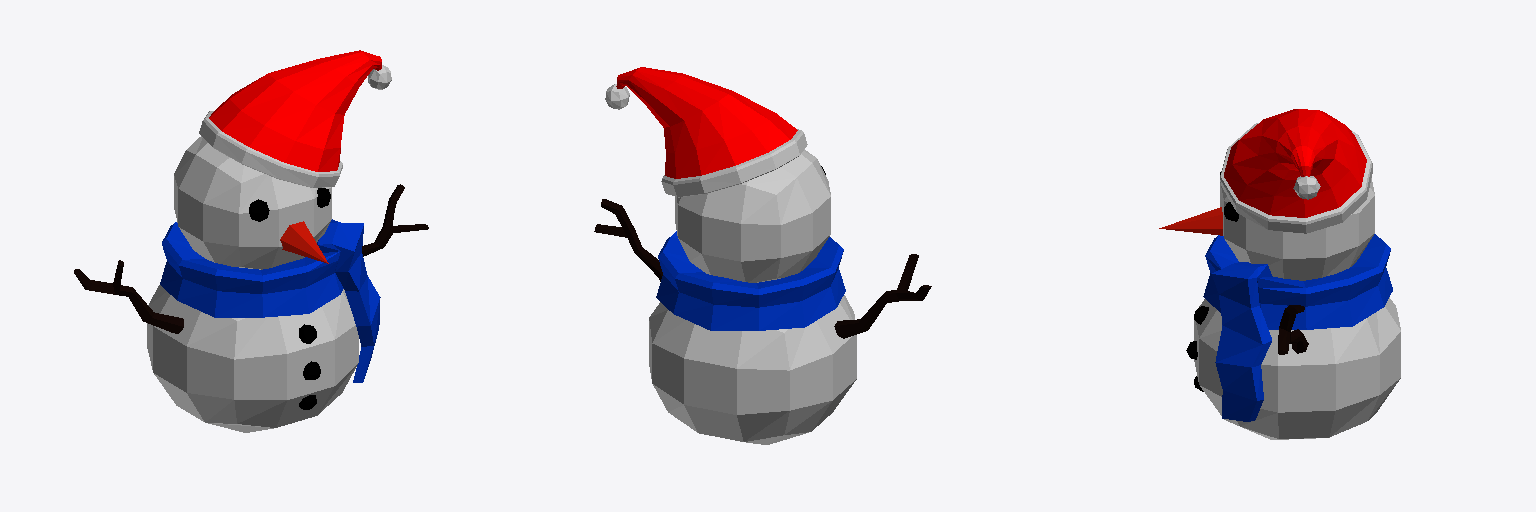
Rendered from snowman_2022.obj.
3 views of the same model, side by side, from view 1: azimuth 30°, elevation 25°; view 2: azimuth 150°, elevation 25°; view 3: azimuth 270°, elevation 25° (orthographic).
Parts seen in each view (by area): view 1: 1, 0, 4, 5, 2, 3; view 2: 1, 4, 0, 5; view 3: 1, 0, 4, 5, 3, 2.
Part boxes in pixels (bbox=[...]): 1: bbox=[147, 65, 391, 432]; 0: bbox=[160, 219, 380, 382]; 4: bbox=[209, 50, 381, 171]; 5: bbox=[74, 184, 428, 333]; 2: bbox=[249, 188, 330, 409]; 3: bbox=[280, 221, 328, 263]; 1: bbox=[605, 84, 856, 444]; 4: bbox=[616, 67, 797, 178]; 0: bbox=[656, 231, 845, 330]; 5: bbox=[594, 199, 931, 338]; 1: bbox=[1194, 123, 1400, 439]; 0: bbox=[1203, 234, 1392, 421]; 4: bbox=[1224, 109, 1366, 217]; 5: bbox=[1278, 305, 1308, 354]; 3: bbox=[1159, 207, 1222, 235]; 2: bbox=[1186, 172, 1238, 391].
Bounding box in the file's own units: 0.7855 × 0.7348 × 0.4811.